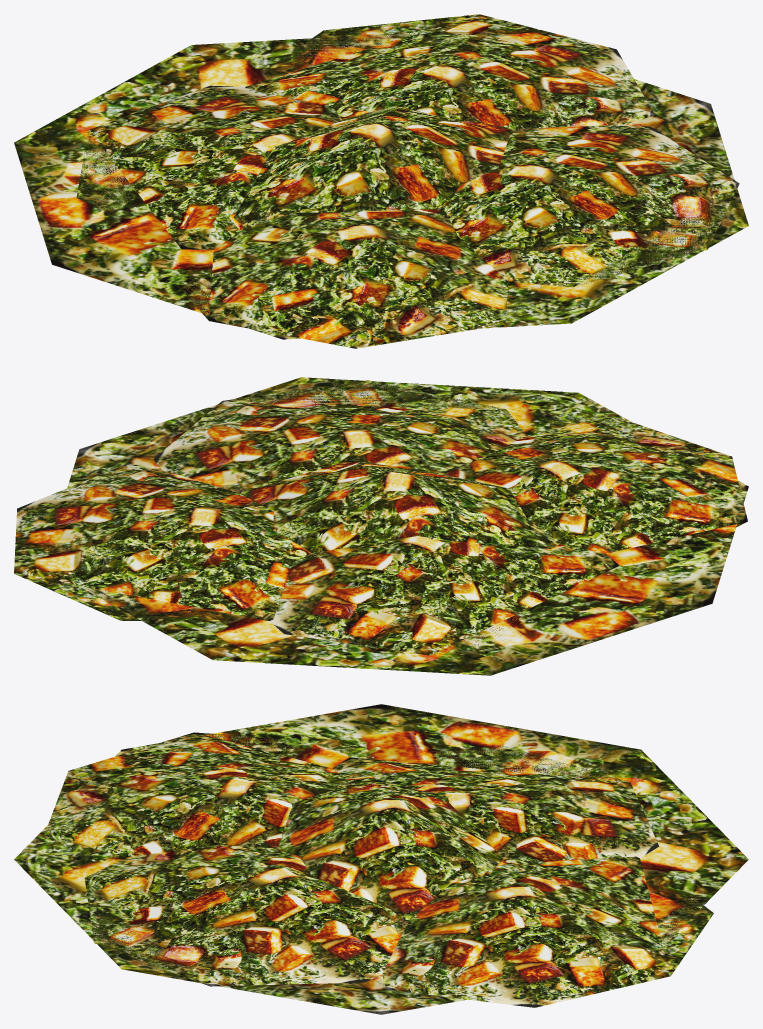
The model's file is SM_FoodServignTableClump_Veg.fbx.
3 views of the same model, one above another, from view 1: azimuth 30°, elevation 25°; view 2: azimuth 150°, elevation 25°; view 3: azimuth 270°, elevation 25° (orthographic). The views are drawn at different scales.
Visible parts, largest first — view 1: FoodClump_Veg; view 2: FoodClump_Veg; view 3: FoodClump_Veg.
Boxes of the visible parts, bbox=[...] form: FoodClump_Veg: bbox=[14, 14, 748, 348]; FoodClump_Veg: bbox=[14, 377, 748, 675]; FoodClump_Veg: bbox=[14, 704, 748, 1014].
Bounding box in the file's own units: 39.02 × 39.02 × 3.28.
1 material, 1 textured.
